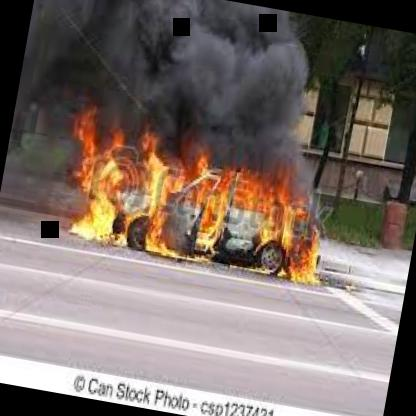fire: (64, 88, 339, 284)
